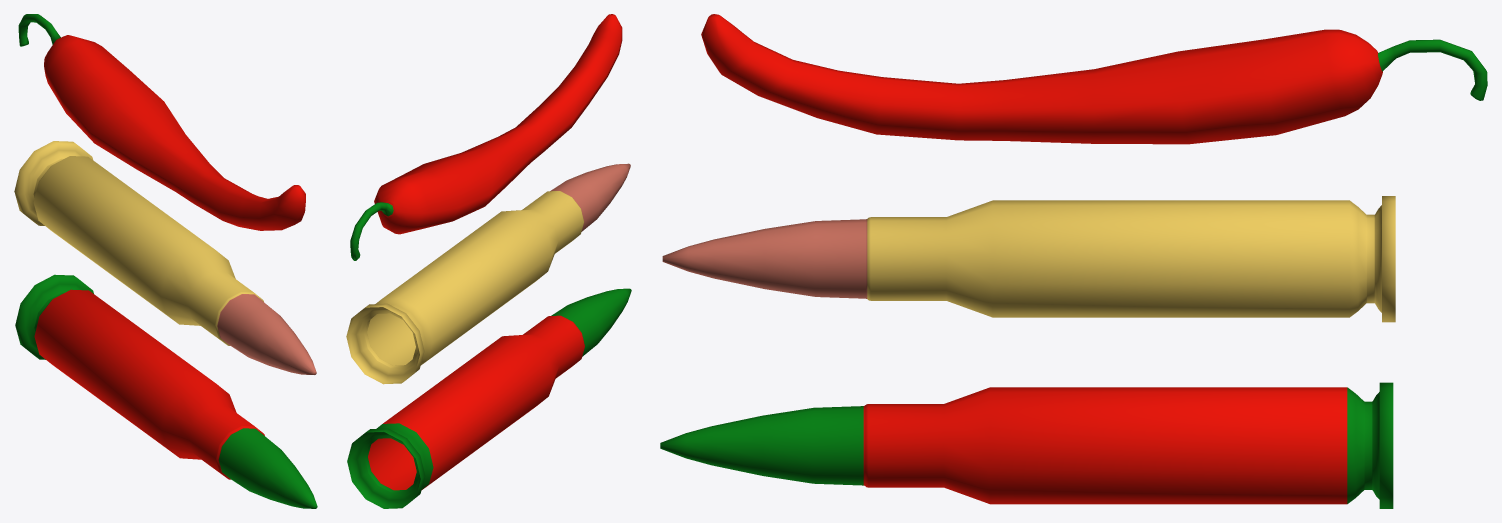
Rendered from P_Bullets.fbx.
3 views of the same model, side by side, from view 1: azimuth 30°, elevation 25°; view 2: azimuth 150°, elevation 25°; view 3: azimuth 270°, elevation 25° (orthographic). The views are drawn at different scales.
Parts seen in each view (by area): view 1: P_Bullet_Var3, P_Bullet_Var1, P_Bullet_Var2; view 2: P_Bullet_Var3, P_Bullet_Var1, P_Bullet_Var2; view 3: P_Bullet_Var3, P_Bullet_Var1, P_Bullet_Var2.
Boxes of the visible parts, bbox=[...] form: P_Bullet_Var3: bbox=[15, 274, 317, 508]; P_Bullet_Var1: bbox=[14, 141, 316, 374]; P_Bullet_Var2: bbox=[18, 14, 305, 230]; P_Bullet_Var3: bbox=[347, 288, 631, 508]; P_Bullet_Var1: bbox=[346, 163, 630, 384]; P_Bullet_Var2: bbox=[350, 14, 622, 260]; P_Bullet_Var3: bbox=[660, 382, 1393, 508]; P_Bullet_Var1: bbox=[662, 196, 1395, 322]; P_Bullet_Var2: bbox=[701, 14, 1487, 144].
Size of the model in its own units: 45.87 by 194 by 299.
